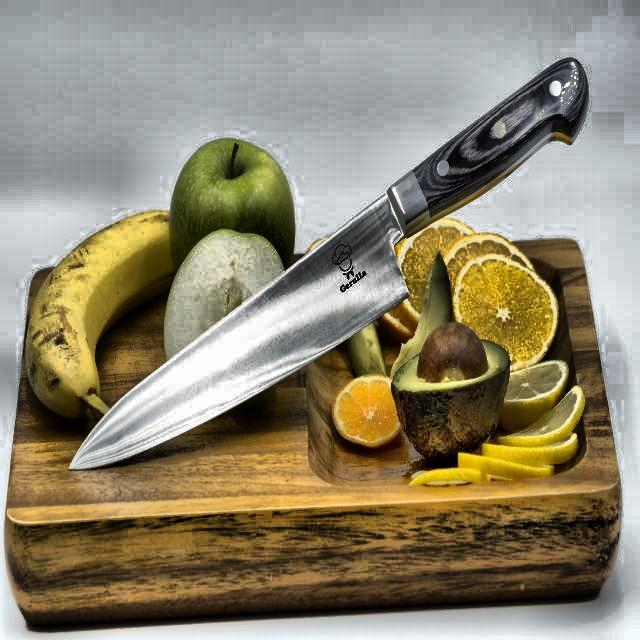knife: (67, 54, 592, 476)
